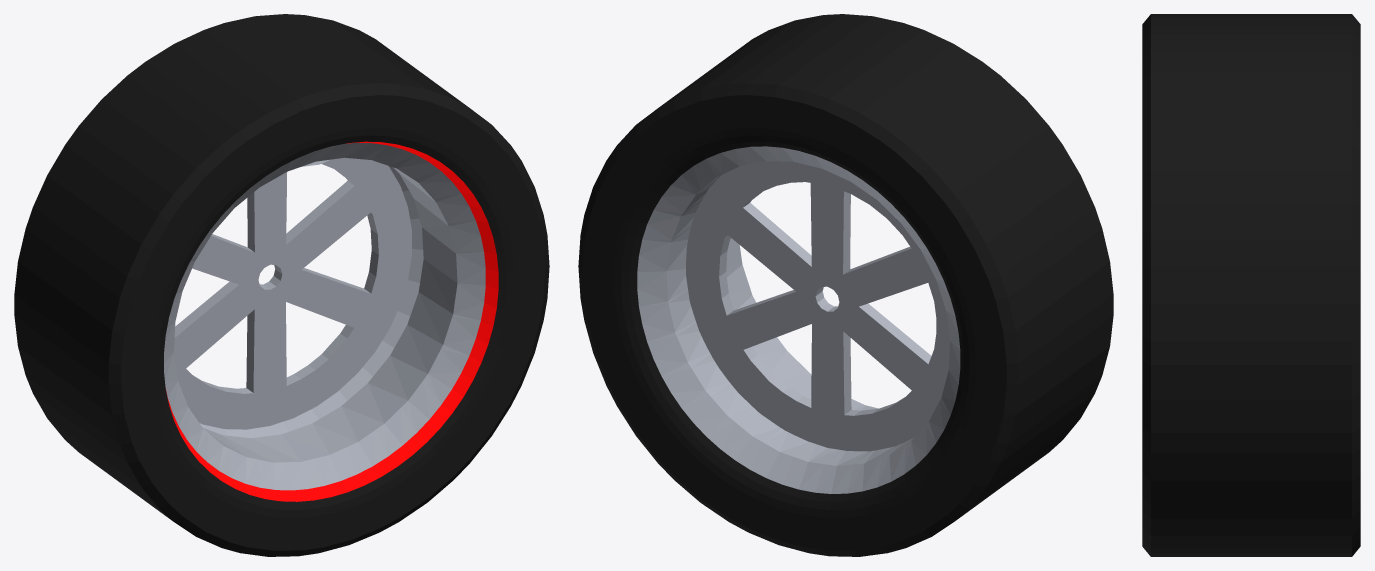
File: wheel_link.dae
The picture shows the model from 3 angles, left to right: view 1: azimuth 30°, elevation 25°; view 2: azimuth 150°, elevation 25°; view 3: azimuth 270°, elevation 25°; orthographic projection. The views are drawn at different scales.
Visible parts, largest first — view 1: _front_left_wheel_004; view 2: _front_left_wheel_004; view 3: _front_left_wheel_004.
Part boxes in pixels (box(x1,y1,x2,y2)): _front_left_wheel_004: box(14, 14, 549, 556); _front_left_wheel_004: box(578, 14, 1113, 556); _front_left_wheel_004: box(1142, 14, 1360, 556).
Bounding box in the file's own units: 0.1844 × 0.0742 × 0.1844.
